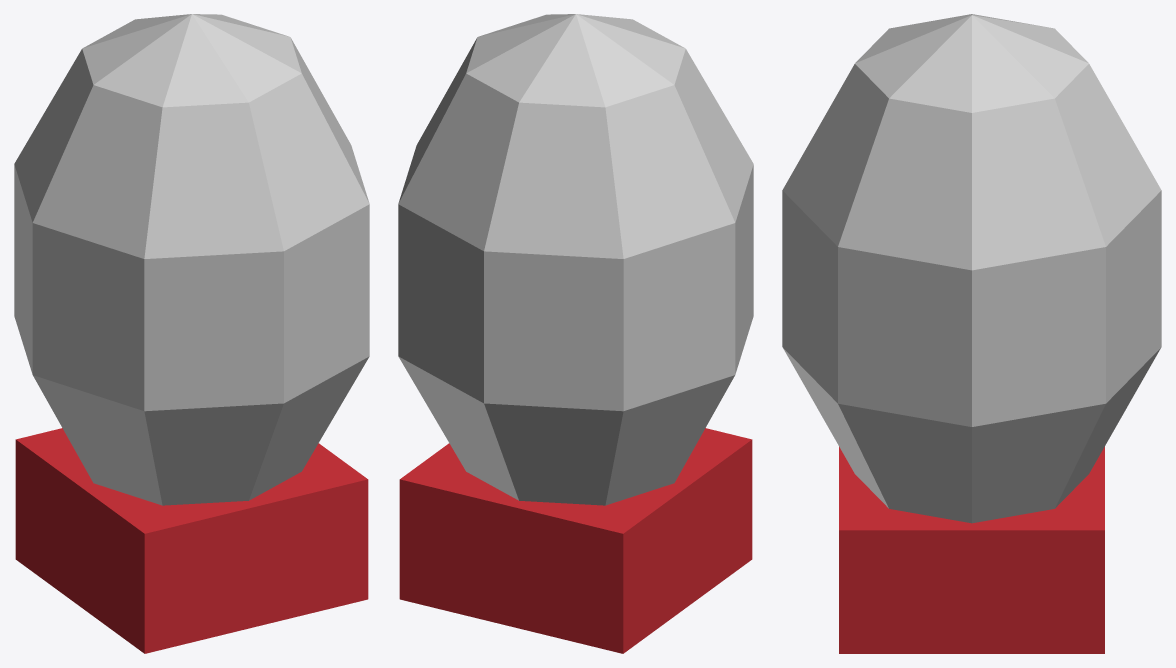
The model's file is MDL_Bomb.fbx.
3 views of the same model, side by side, from view 1: azimuth 30°, elevation 25°; view 2: azimuth 150°, elevation 25°; view 3: azimuth 270°, elevation 25° (orthographic). The views are drawn at different scales.
Parts seen in each view (by area): view 1: Sphere.001; view 2: Sphere.001; view 3: Sphere.001.
Part boxes in pixels (x1,y1,x2,y2): Sphere.001: (14, 14, 369, 653); Sphere.001: (398, 14, 753, 653); Sphere.001: (782, 14, 1161, 653).
Bounding box in the file's own units: 459 × 779 × 459.
